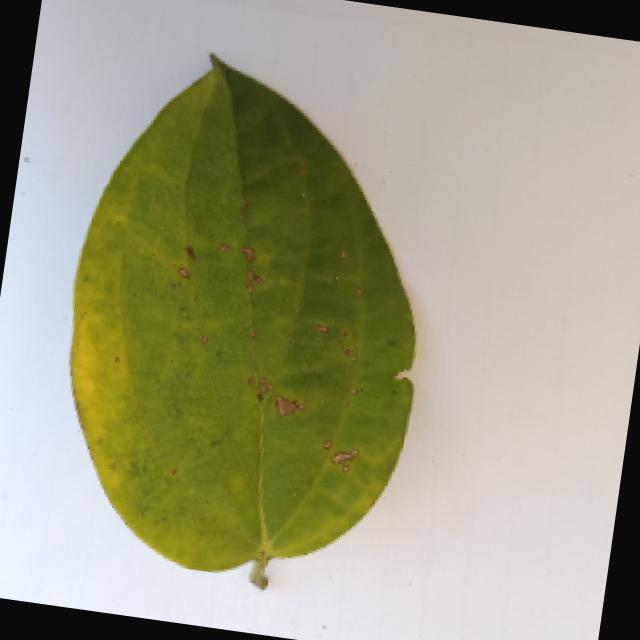slow-decline: (19, 41, 468, 608)
